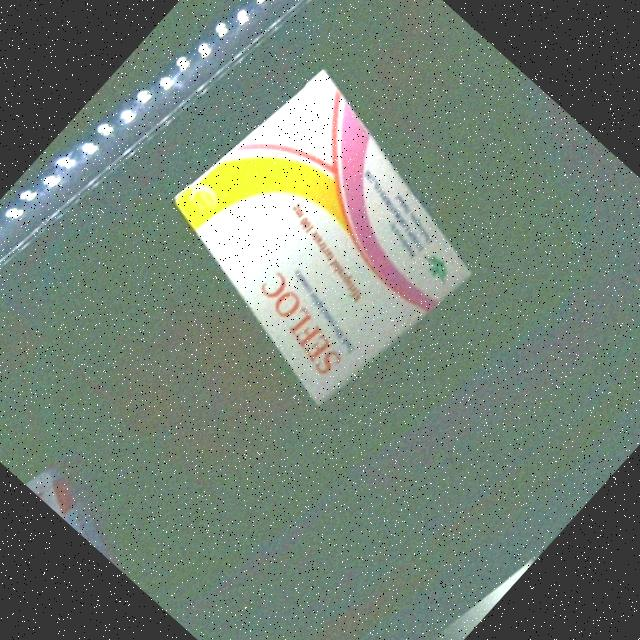medicine_name_detection: (142, 56, 507, 420)
